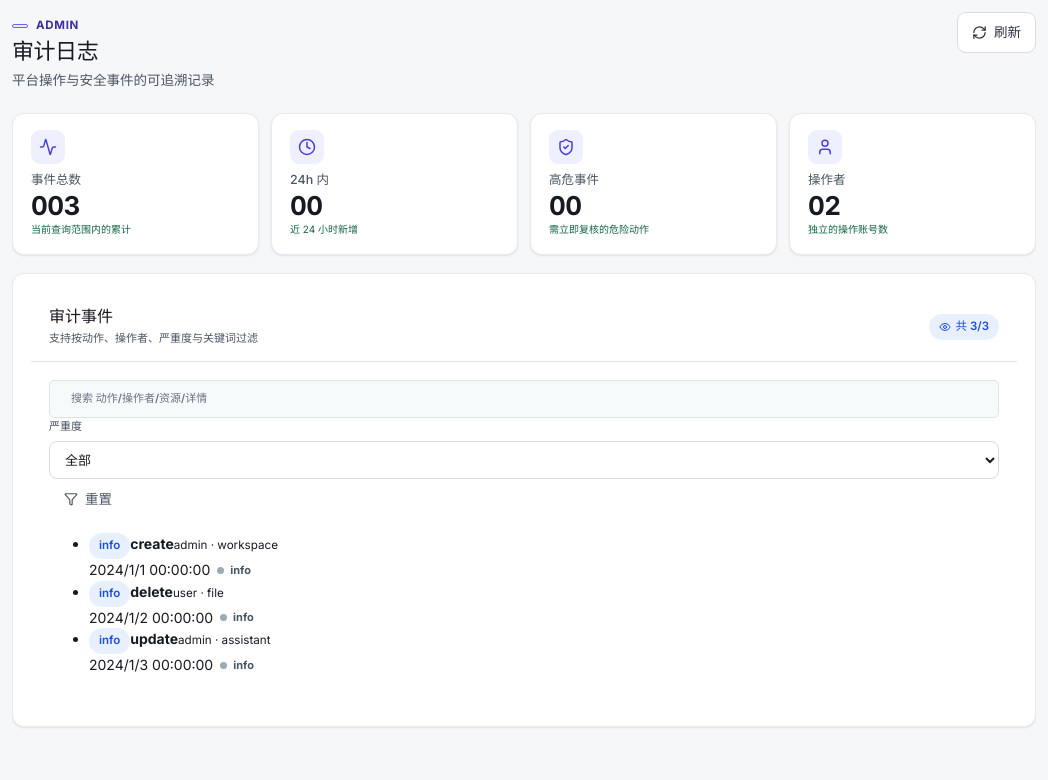
Test: AdminAuditLogsPage › 过滤输入框按 action 过滤列表
Expected: the number of list items with test id "audit-logs-item" is 3, top-left (89, 534), bottom-right (278, 578); top-left (89, 581), bottom-right (254, 626); top-left (89, 628), bottom-right (270, 673)
Step 1. Type "delete" into the search field with test id "audit-filter-input" → [524, 399], box top-left (59, 382), bottom-right (989, 416)
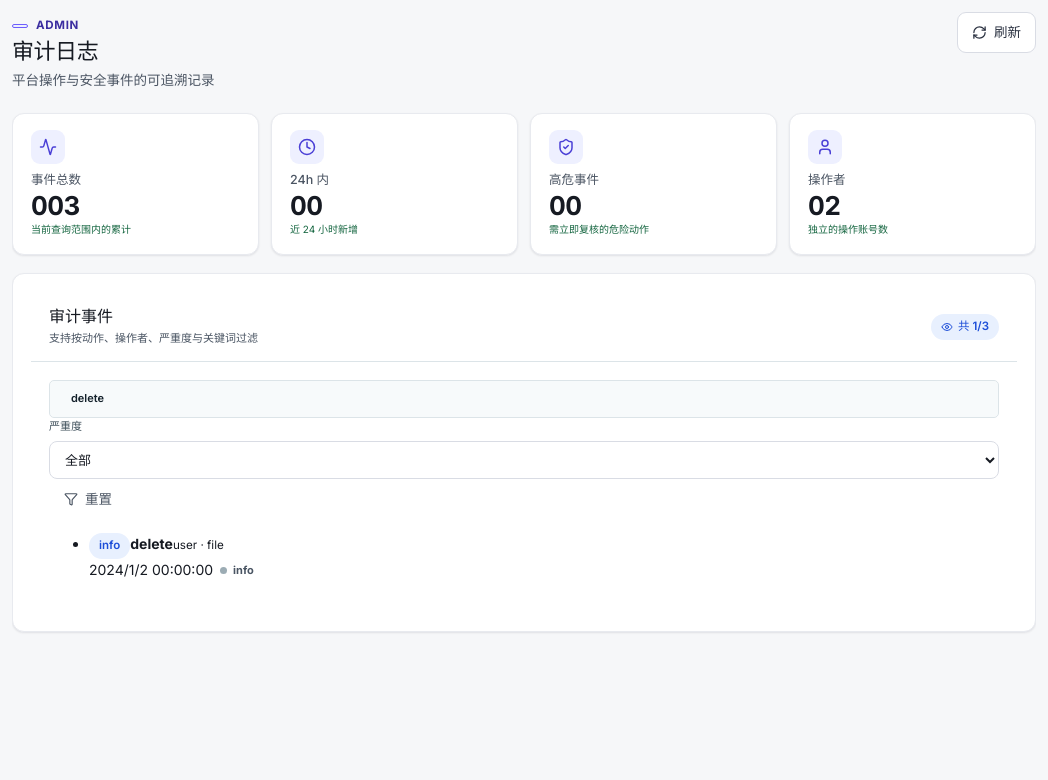
Now the number of list items with test id "audit-logs-item" is 1, box top-left (89, 534), bottom-right (254, 578)
Now the text "create" is gone
Now the text "update" is gone
